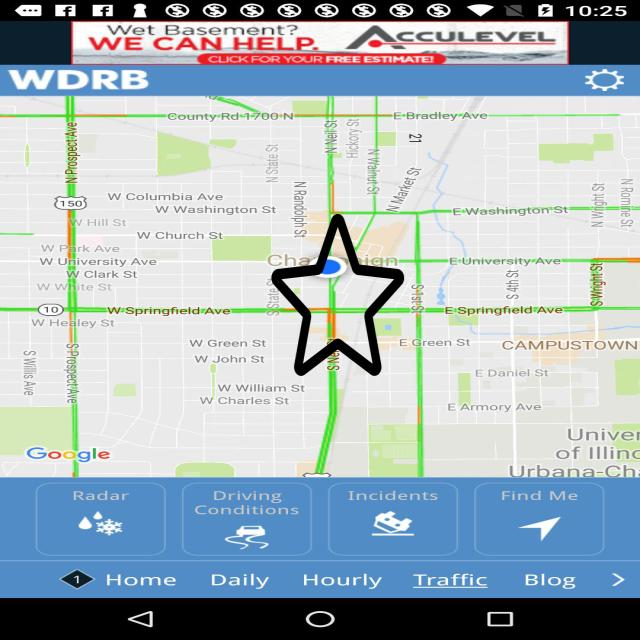forced continuity: (272, 210, 404, 380)
